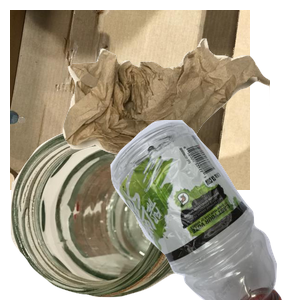cardboard: (10, 10, 250, 190)
glass: (10, 126, 220, 300)
plastic: (73, 120, 300, 300)
trash: (60, 36, 300, 198)
